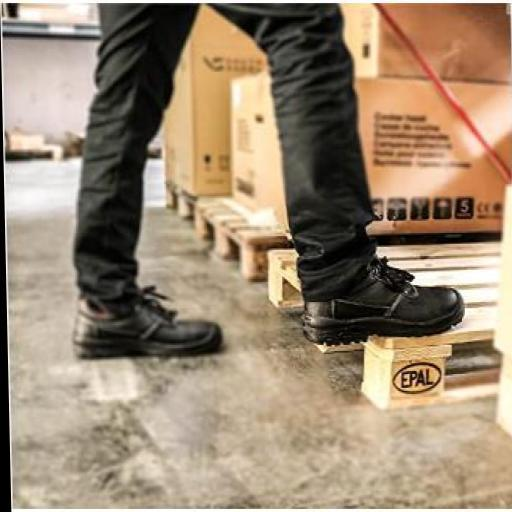safety_boots: (291, 273, 470, 362), (65, 297, 229, 365)
